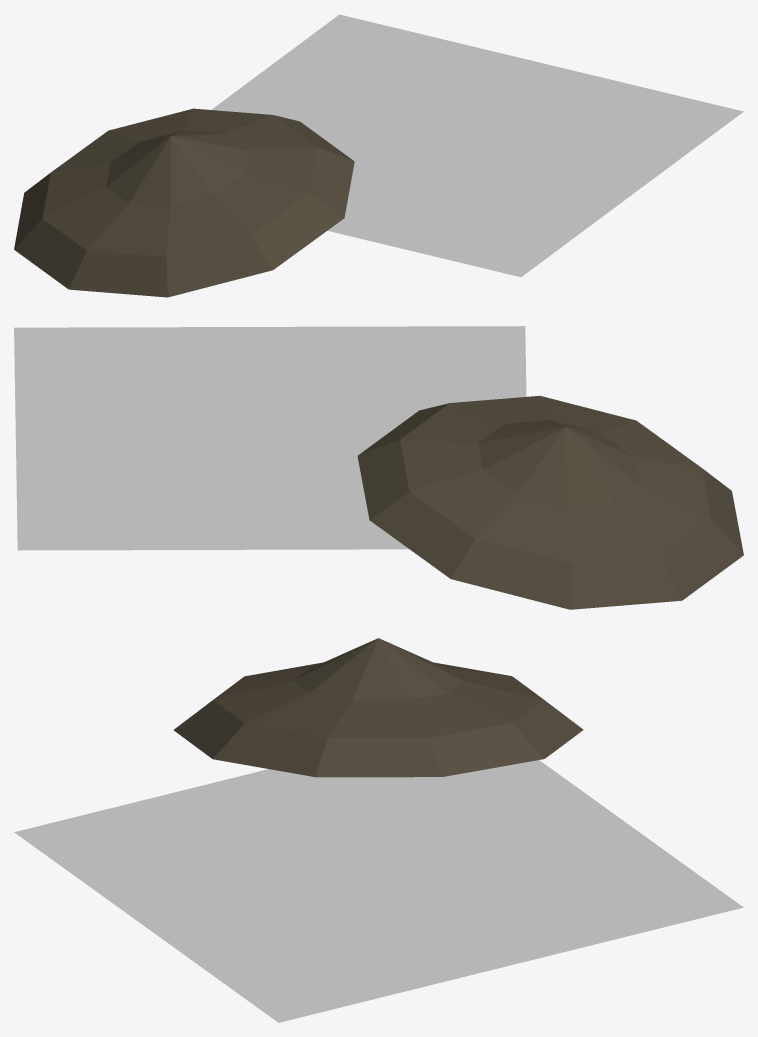
Rendered from ITAM_STRG_01.OBJ.
The picture shows the model from 3 angles, top to bottom: view 1: azimuth 30°, elevation 25°; view 2: azimuth 150°, elevation 25°; view 3: azimuth 270°, elevation 25°; orthographic projection. The views are drawn at different scales.
Visible parts, largest first — view 1: ITAM_STRG_01; view 2: ITAM_STRG_01; view 3: ITAM_STRG_01.
Part boxes in pixels (x1,y1,x2,y2): ITAM_STRG_01: (14, 14, 743, 297); ITAM_STRG_01: (14, 326, 743, 609); ITAM_STRG_01: (14, 638, 743, 1022).
Bounding box in the file's own units: 0.1834 × 0.027 × 0.1515.
